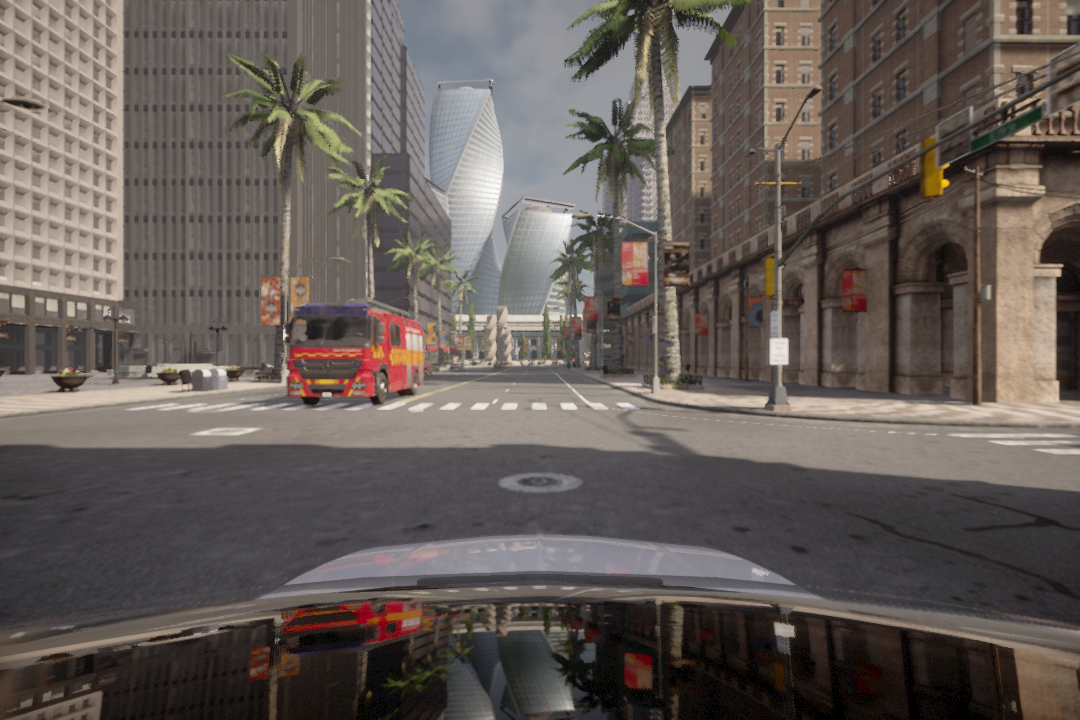walkside: (132, 399, 644, 417)
